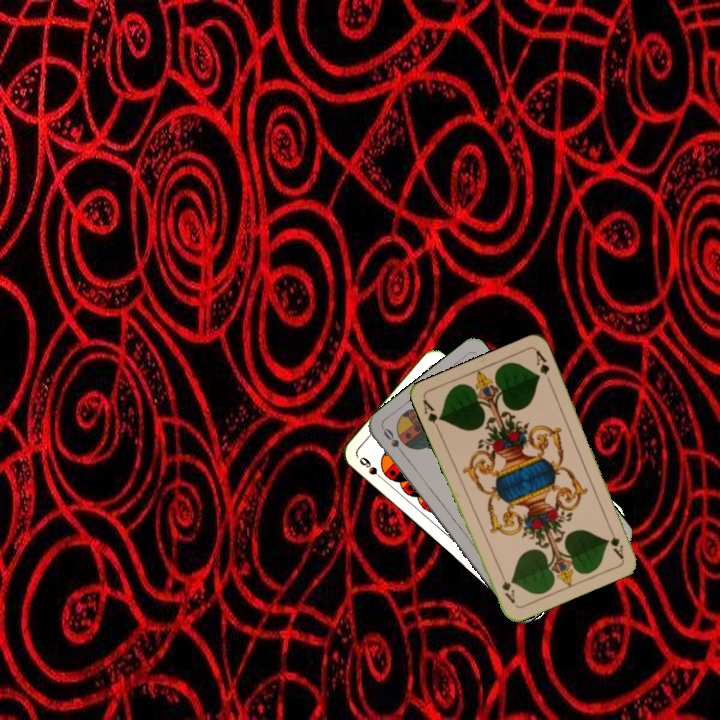GA: (419, 395, 445, 434), (604, 522, 626, 561)
S9: (355, 453, 388, 484)
SO: (379, 424, 408, 459)
